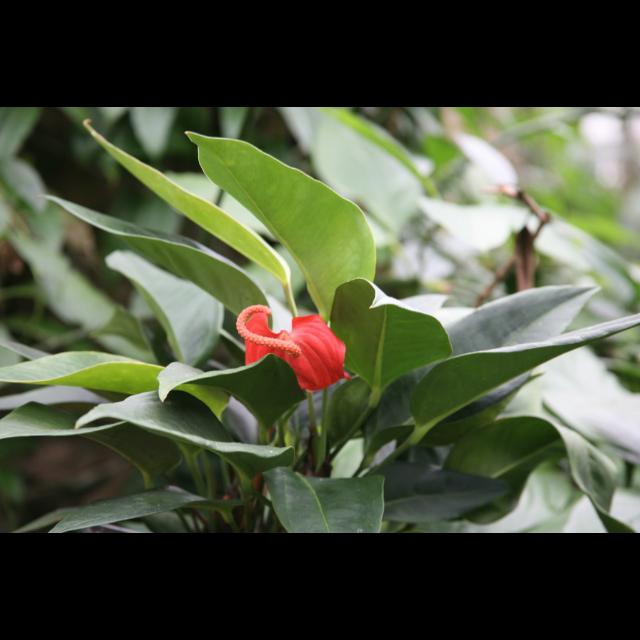Flower: (238, 302, 348, 394)
